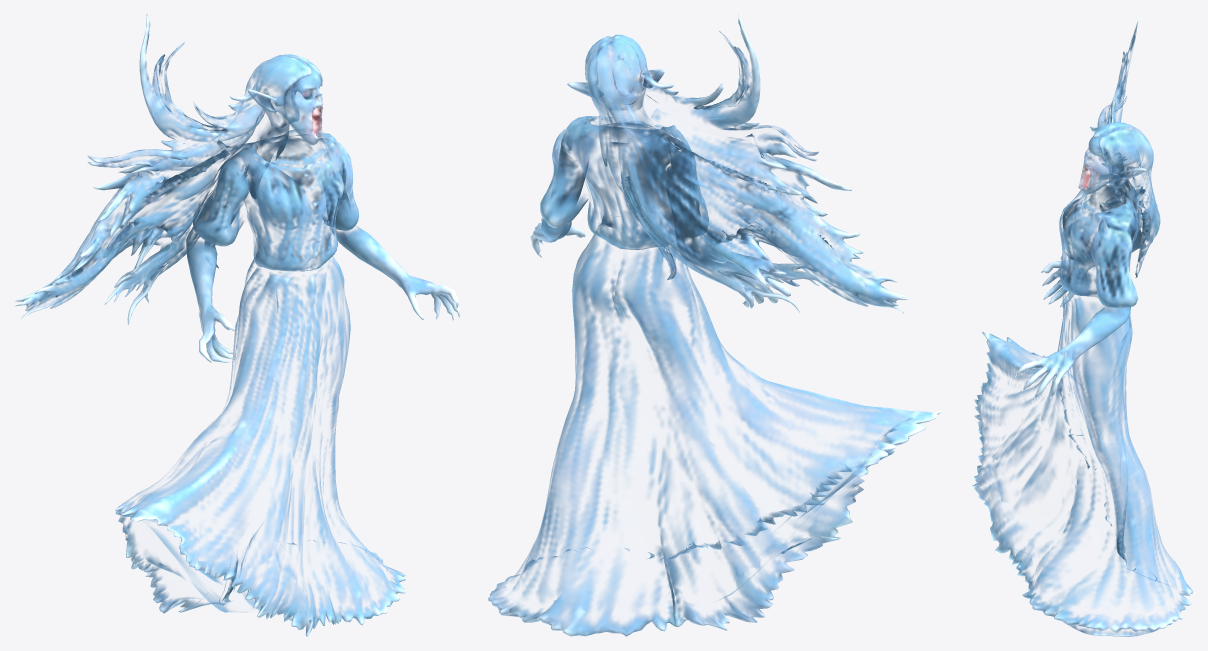
The model's file is MZ4250 - Banshee Female_2025.glb.
The picture shows the model from 3 angles, left to right: view 1: azimuth 30°, elevation 25°; view 2: azimuth 150°, elevation 25°; view 3: azimuth 270°, elevation 25°; orthographic projection. The views are drawn at different scales.
Parts seen in each view (by area): view 1: ORGANIC BASE SPHERE.001; view 2: ORGANIC BASE SPHERE.001; view 3: ORGANIC BASE SPHERE.001.
Part boxes in pixels (box(x1,y1,x2,y2)): ORGANIC BASE SPHERE.001: box(15, 14, 459, 636); ORGANIC BASE SPHERE.001: box(488, 14, 943, 636); ORGANIC BASE SPHERE.001: box(972, 14, 1193, 636).
Size of the model in its own units: 73.66 by 108 by 41.
1 material, 1 textured.
